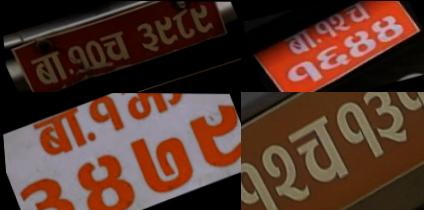0: (80, 36, 111, 72)
1: (325, 93, 386, 171), (241, 153, 281, 210), (82, 92, 128, 141), (383, 92, 424, 146), (278, 56, 326, 90), (61, 42, 95, 80), (309, 16, 339, 42)
2: (251, 135, 315, 210), (325, 10, 353, 34)
3: (355, 92, 416, 158), (8, 166, 83, 210), (131, 19, 164, 55)
4: (62, 143, 142, 210), (336, 27, 380, 60), (364, 12, 407, 45)
6: (309, 42, 354, 73)
7: (122, 119, 206, 207)
8: (170, 8, 201, 42)
9: (181, 97, 241, 184), (149, 13, 183, 48), (185, 2, 220, 36)
ba: (27, 103, 102, 168), (26, 49, 72, 91), (277, 26, 320, 55)
cha: (279, 110, 354, 198), (96, 27, 136, 66), (339, 0, 374, 24)
jha: (116, 93, 192, 130)
